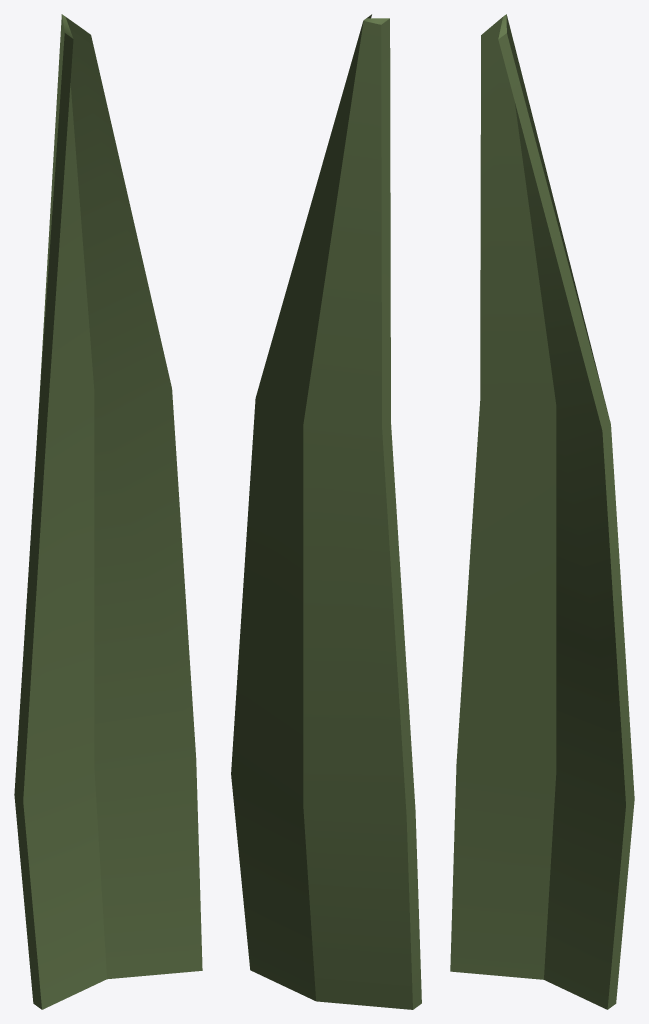
The model's file is SM_Grass_Blade_02.fbx.
3 renders of one model, left to right at view 1: azimuth 30°, elevation 25°; view 2: azimuth 150°, elevation 25°; view 3: azimuth 330°, elevation 25°, orthographic. The views are drawn at different scales.
Parts seen in each view (by area): view 1: SM_Grass_Blade_02; view 2: SM_Grass_Blade_02; view 3: SM_Grass_Blade_02.
Boxes of the visible parts, <box> form: SM_Grass_Blade_02: <box>14,14,202,1009</box>; SM_Grass_Blade_02: <box>231,14,421,1009</box>; SM_Grass_Blade_02: <box>450,14,634,1009</box>.
Size of the model in its own units: 19.77 by 106 by 7.25.
